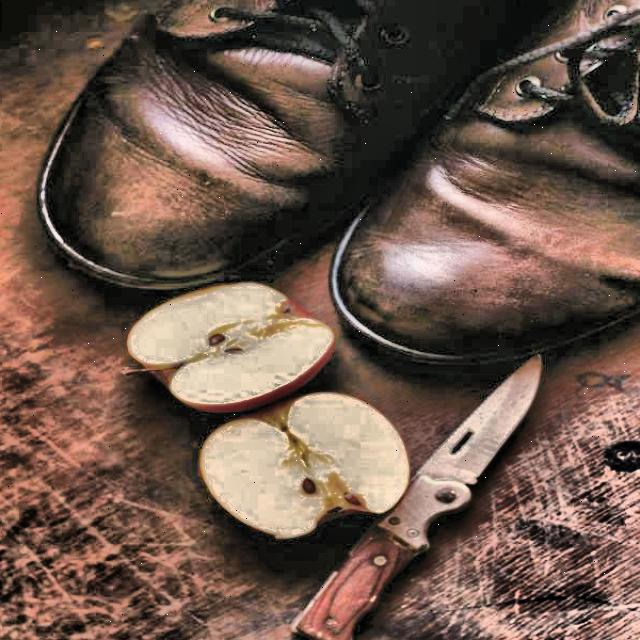knife: (284, 352, 562, 640)
